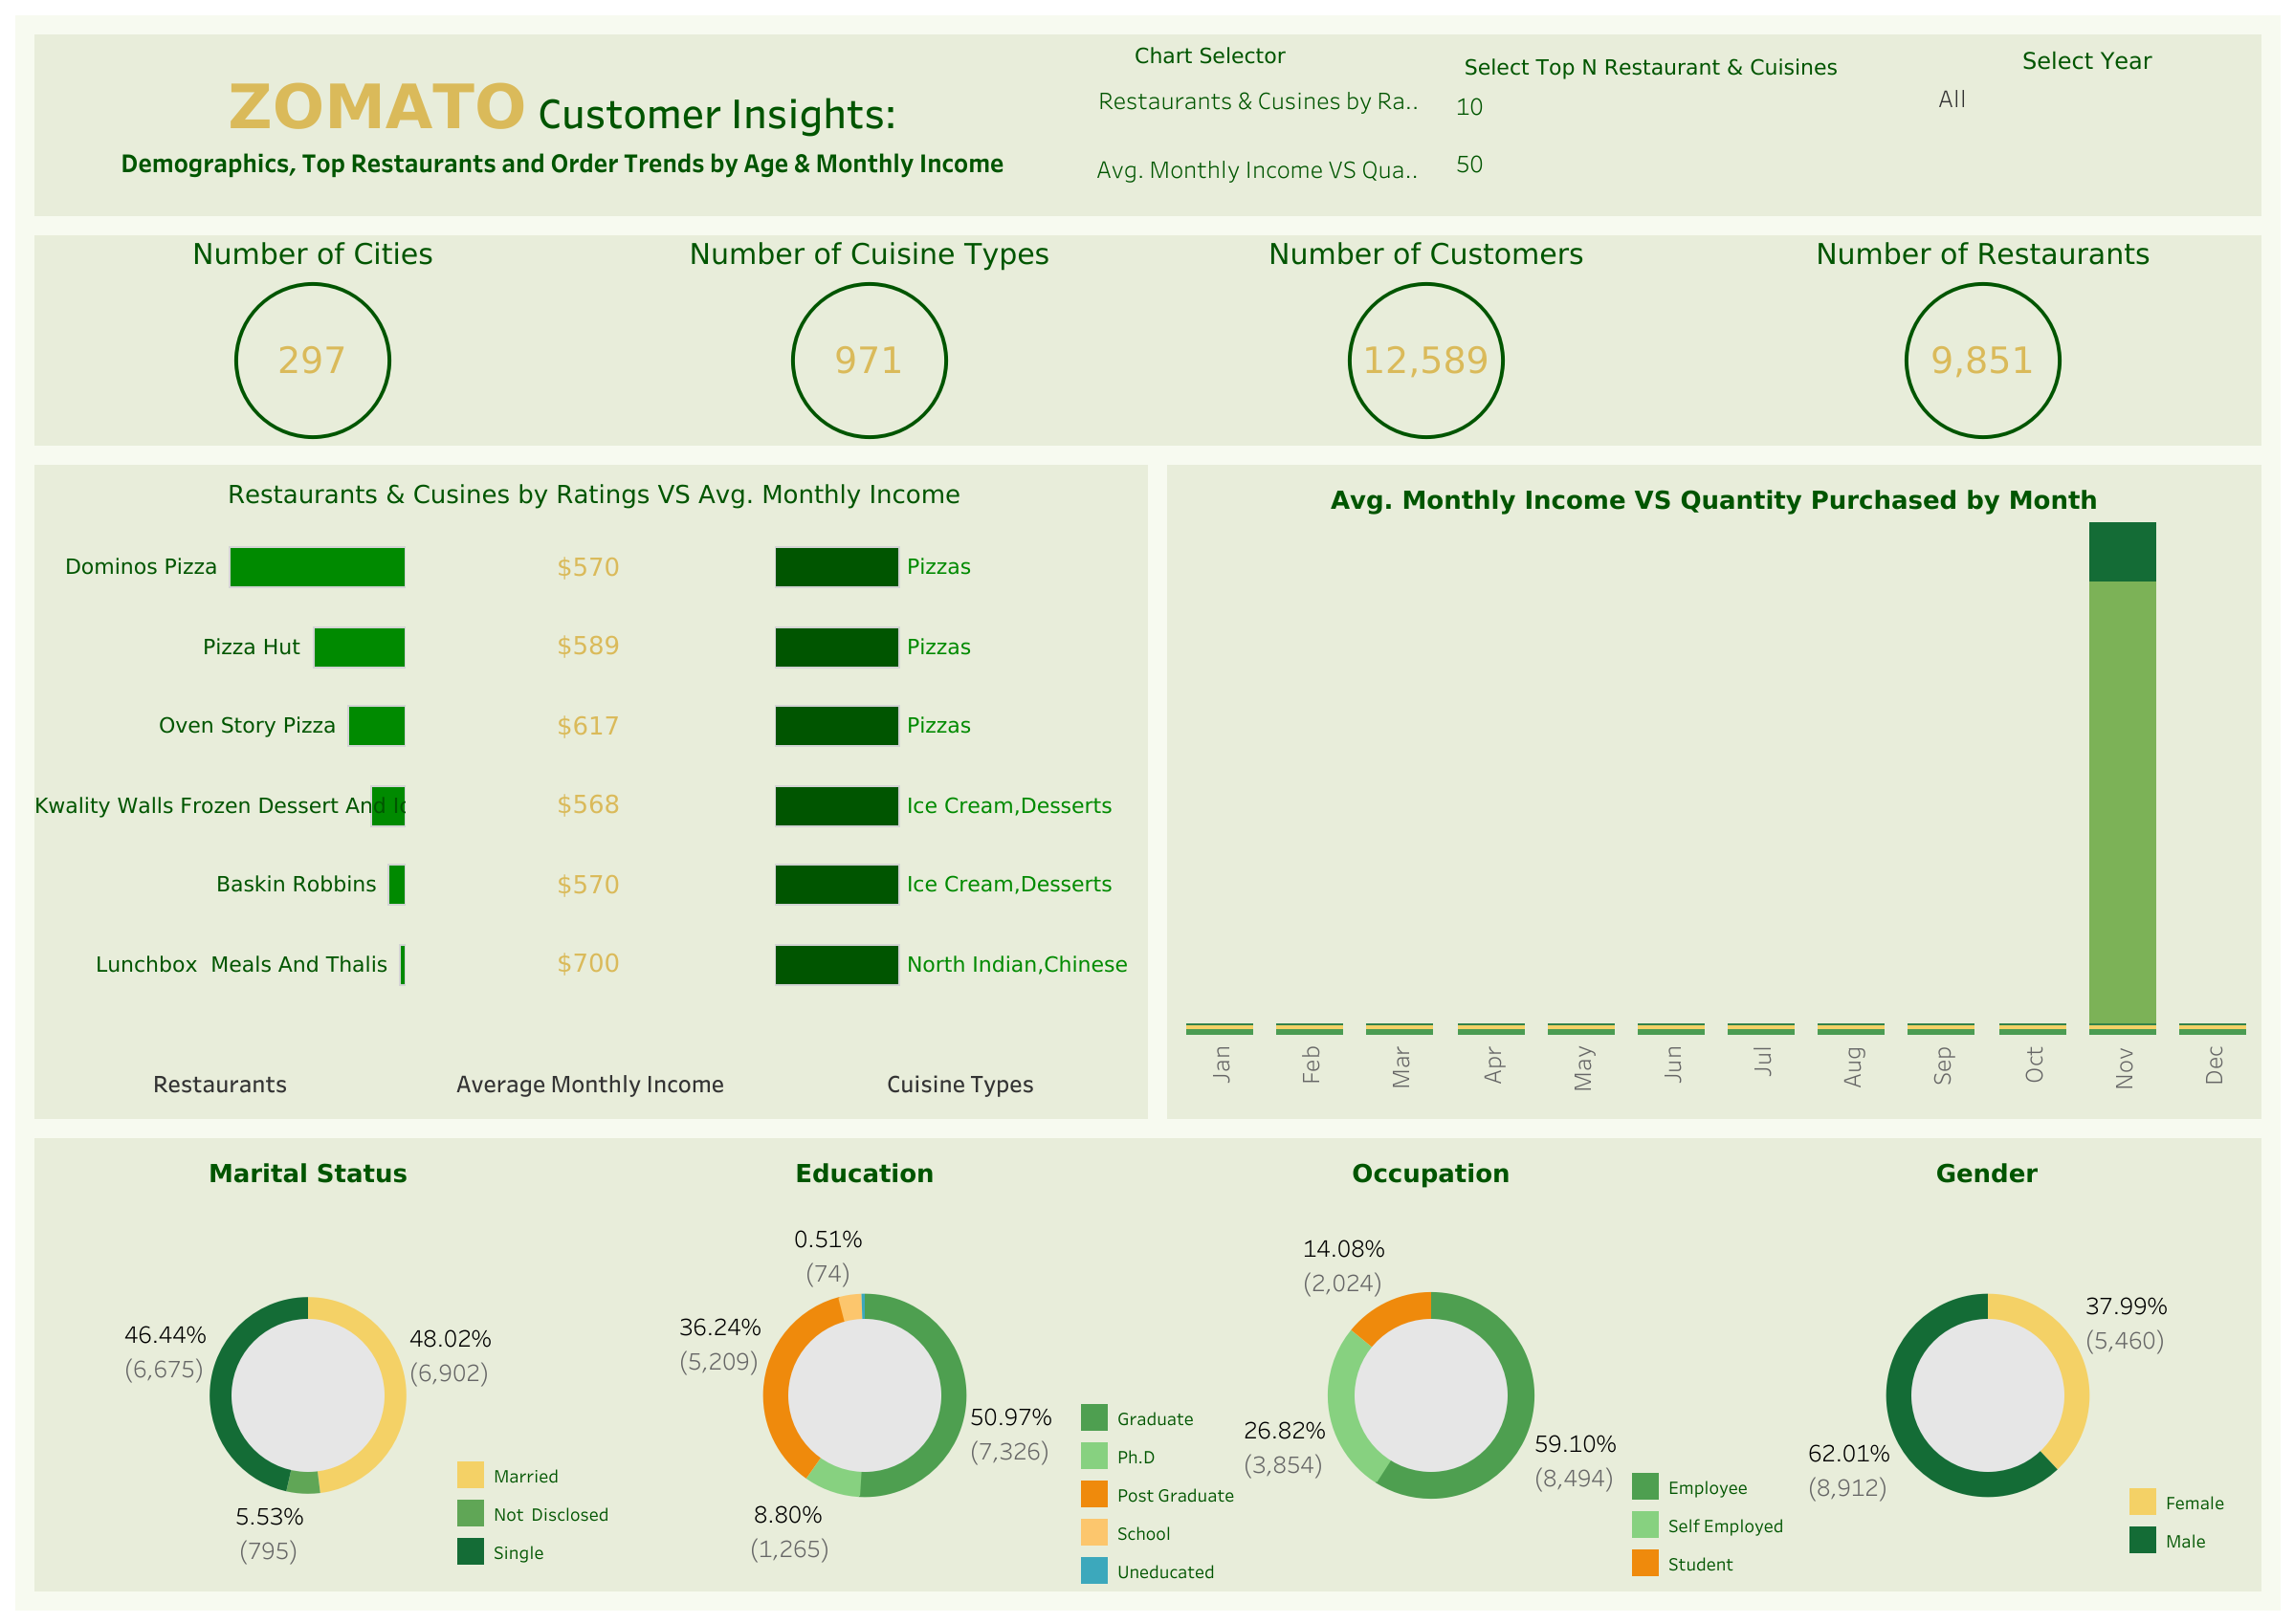

Layout of this report page (visuals, bound fields, positions):
{"tool":"tableau","page":{"name":"Zomato Customer Insight","canvas":[1200,850],"ordinal":0},"visuals":[{"type":"text","box":[574,14,117,30]},{"type":"text","box":[20,20,548,91]},{"type":"text","box":[750,23,226,24]},{"type":"filter","title":"Trend of Quantity by Age","param":"[federated.0hqfkh907hfker18ojc2i1t6zbgn].[yr:Order_Date:ok]","box":[1011,23,160,85]},{"type":"parameter","param":"[Parameters].[Chart Selector (copy)_1342917178055442464]","box":[572,43,174,26]},{"type":"parameter","param":"[Parameters].[Parameter 1]","box":[759,46,230,23]},{"type":"parameter","param":"[Parameters].[Parameter 3]","box":[759,76,230,25]},{"type":"parameter","param":"[Parameters].[Parameter 2]","box":[571,79,176,31]},{"type":"worksheet","title":"KPI","mark":"Shape","box":[8,113,1184,130]},{"type":"worksheet","title":"Trend of Quantity by Age","mark":"Automatic","rows":["Quantity"],"cols":["Age (bin)"],"box":[610,243,572,342]},{"type":"worksheet","title":"Gender VS AVg. Income","mark":"Automatic","rows":["Restaurant Name"],"cols":["Rating","Calculation_1342917177385955350","Cuisine"],"box":[18,244,581,338]},{"type":"worksheet","title":"Monthly Income Chart","mark":"Bar","rows":["Avg Monthly Income (USD)"],"cols":["Order_Date"],"box":[614,245,566,336]},{"type":"worksheet","title":"Cuisines by Cities","mark":"Automatic","box":[19,265,579,321]},{"type":"worksheet","title":"Marital Status Demographic","mark":"Pie","rows":["Calculation_1342917176769466373","Calculation_1342917176769507335"],"box":[18,595,286,237]},{"type":"worksheet","title":"Educational Demographic","mark":"Pie","rows":["Calculation_1342917176769466373","Calculation_1342917176769507335"],"box":[304,595,296,237]},{"type":"worksheet","title":"Occupational Demographic","mark":"Pie","rows":["Calculation_1342917176769466373","Calculation_1342917176769507335"],"box":[600,595,296,237]},{"type":"worksheet","title":"Gender Demographic","mark":"Pie","rows":["Calculation_1342917176769466373","Calculation_1342917176769507335"],"box":[896,595,286,237]},{"type":"legend","title":"Educational Demographic","param":"[federated.0hqfkh907hfker18ojc2i1t6zbgn].[none:Educational Qualifications:nk]","box":[562,731,89,104]},{"type":"legend","title":"Marital Status Demographic","param":"[federated.0hqfkh907hfker18ojc2i1t6zbgn].[none:Marital Status:nk]","box":[236,761,86,69]},{"type":"legend","title":"Occupational Demographic","param":"[federated.0hqfkh907hfker18ojc2i1t6zbgn].[none:Occupation:nk]","box":[850,767,92,60]},{"type":"legend","title":"Gender Demographic","param":"[federated.0hqfkh907hfker18ojc2i1t6zbgn].[none:Gender:nk]","box":[1110,775,58,53]}]}

Visuals, with their boxes in screenshot pixels (x1, y1, x2, y2), scaled from the page's 1200x850 canvas onto the 2294x1624 screenshot:
text: detection(1097, 27, 1321, 84)
text: detection(38, 38, 1086, 212)
text: detection(1434, 44, 1865, 90)
"Trend of Quantity by Age" filter: detection(1932, 44, 2239, 207)
parameter: detection(1093, 82, 1426, 132)
parameter: detection(1451, 88, 1890, 132)
parameter: detection(1451, 145, 1890, 193)
parameter: detection(1092, 151, 1428, 210)
"KPI" worksheet (Shape marks): detection(15, 216, 2279, 464)
"Trend of Quantity by Age" worksheet: detection(1166, 464, 2260, 1118)
"Gender VS AVg. Income" worksheet: detection(34, 466, 1145, 1112)
"Monthly Income Chart" worksheet (Bar marks): detection(1174, 468, 2256, 1110)
"Cuisines by Cities" worksheet: detection(36, 506, 1143, 1120)
"Marital Status Demographic" worksheet (Pie marks): detection(34, 1137, 581, 1590)
"Educational Demographic" worksheet (Pie marks): detection(581, 1137, 1147, 1590)
"Occupational Demographic" worksheet (Pie marks): detection(1147, 1137, 1713, 1590)
"Gender Demographic" worksheet (Pie marks): detection(1713, 1137, 2260, 1590)
"Educational Demographic" legend: detection(1074, 1396, 1245, 1595)
"Marital Status Demographic" legend: detection(452, 1454, 615, 1586)
"Occupational Demographic" legend: detection(1625, 1465, 1800, 1580)
"Gender Demographic" legend: detection(2122, 1481, 2233, 1582)
